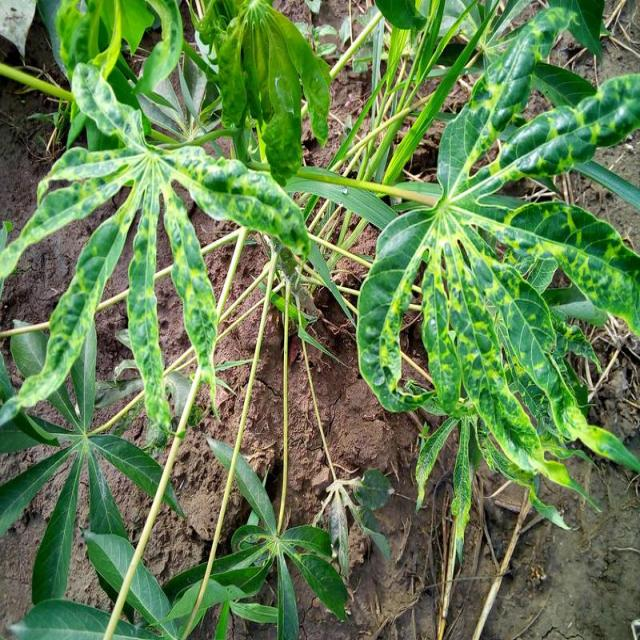cassava leaf: (355, 11, 640, 558), (2, 58, 312, 438)
